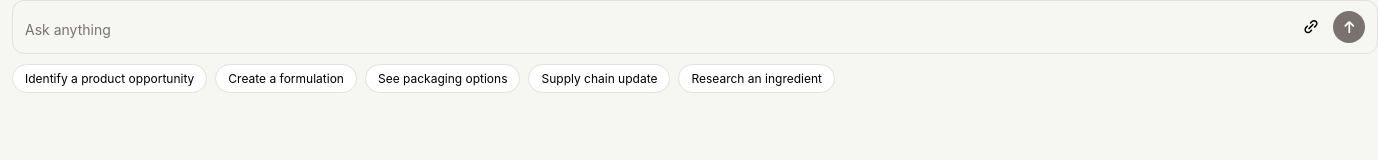
Test: ChatInput › basic input › clicking a suggestion chip fills the input
The image size is (1378, 160).
Step 1. Click the button "Create a formulation" → (286, 78), box left=215, top=64, right=357, bottom=93
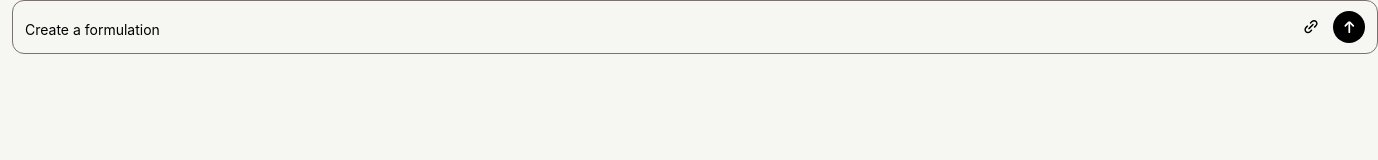
Expected: the text box with placeholder "Ask anything" holds "Create a formulation", left=25, top=19, right=1289, bottom=43
